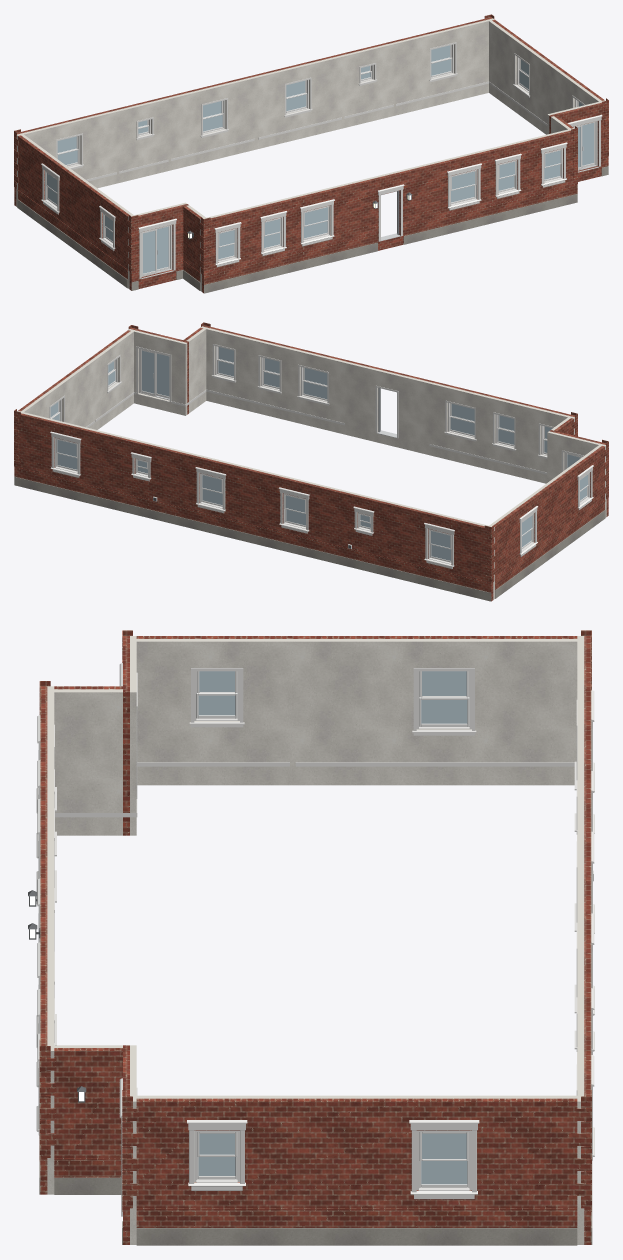
File: shell_g.glb
The picture shows the model from 3 angles, top to bottom: view 1: azimuth 30°, elevation 25°; view 2: azimuth 150°, elevation 25°; view 3: azimuth 270°, elevation 25°; orthographic projection. The views are drawn at different scales.
Visible parts, largest first — view 1: shell_g_plaster, shell_g_brick, shell_g_trim, shell_g_glass, shell_g_conc_s, shell_g_sash, shell_g_frame; view 2: shell_g_brick, shell_g_plaster, shell_g_trim, shell_g_glass, shell_g_conc_s, shell_g_sash, shell_g_frame; view 3: shell_g_plaster, shell_g_brick, shell_g_trim, shell_g_conc_s, shell_g_glass, shell_g_sash, shell_g_frame.
Boxes of the visible parts, x1,y1,x2,y2 form: shell_g_plaster: (16, 18, 605, 291); shell_g_brick: (14, 14, 608, 293); shell_g_trim: (41, 42, 602, 278); shell_g_glass: (47, 45, 593, 273); shell_g_conc_s: (17, 166, 608, 293); shell_g_sash: (46, 45, 595, 275); shell_g_frame: (45, 44, 597, 276); shell_g_brick: (14, 322, 608, 601); shell_g_plaster: (17, 326, 606, 599); shell_g_trim: (49, 344, 593, 568); shell_g_glass: (50, 347, 587, 560); shell_g_conc_s: (14, 476, 605, 601); shell_g_sash: (50, 346, 588, 562); shell_g_frame: (54, 346, 589, 558); shell_g_plaster: (47, 636, 584, 1244); shell_g_brick: (39, 630, 591, 1244); shell_g_trim: (36, 663, 594, 1216); shell_g_conc_s: (39, 1136, 592, 1245); shell_g_glass: (198, 671, 467, 1184); shell_g_sash: (196, 671, 469, 1187); shell_g_frame: (194, 671, 471, 1190).
Bounding box in the file's own units: 24.16 × 3.57 × 12.35.
Materials: 14 (3 with a texture image).
